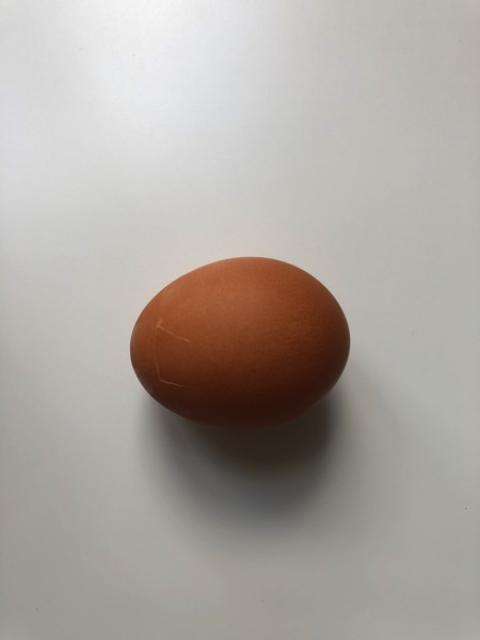Roto: (128, 254, 351, 429)
